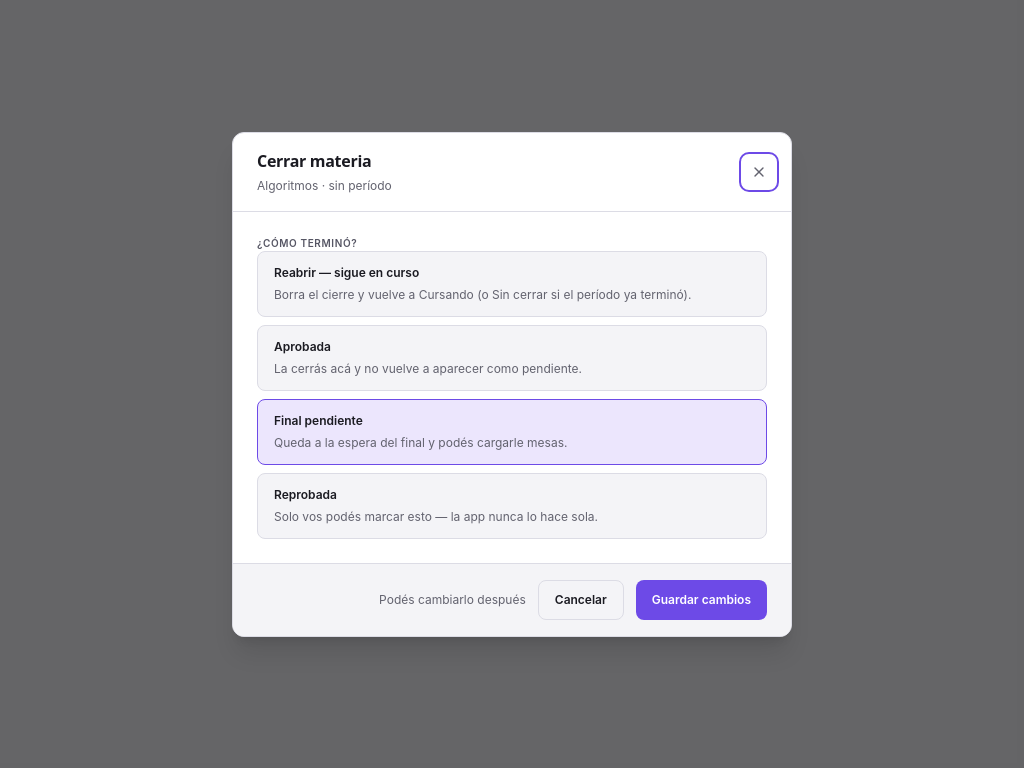
Test case: CerrarMateriaModal — reopen option › selecting it on a final-pendiente subject explains the mesas survive
Click the button "Reabrir" at coordinates (512, 284), box [257,250,767,316]
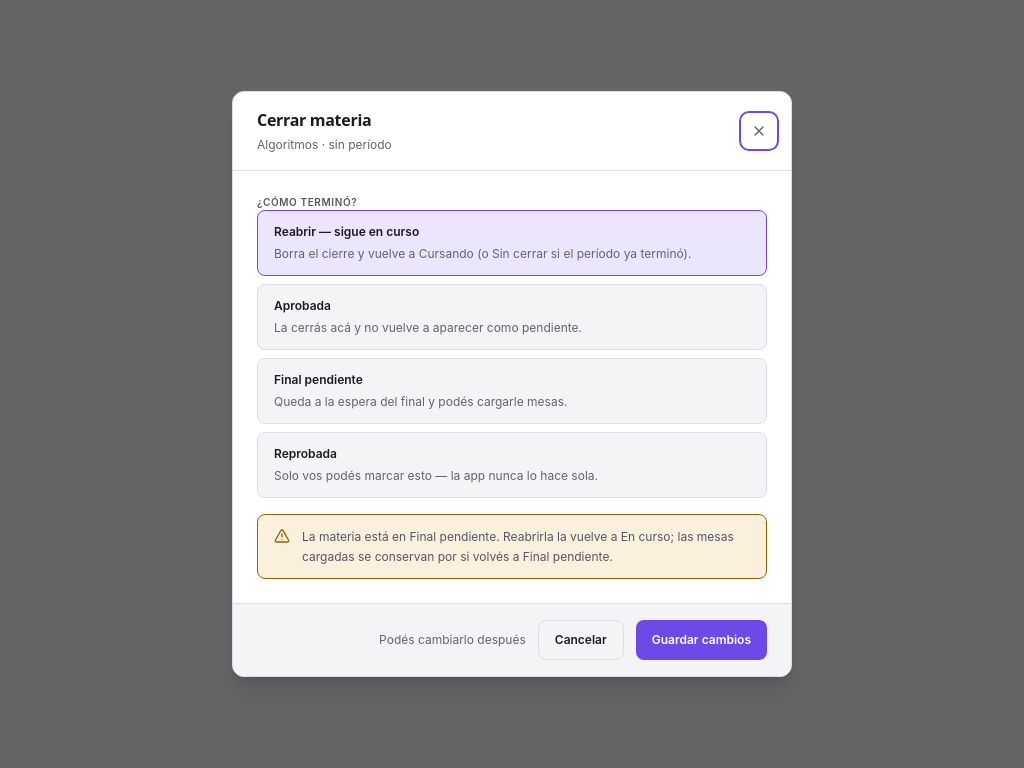
Now the text "La materia está en Final pendiente. Reabrirla la vuelve a En curso; las mesas cargadas se conservan por si volvés a Fina" is shown, box [302,529,734,564]
